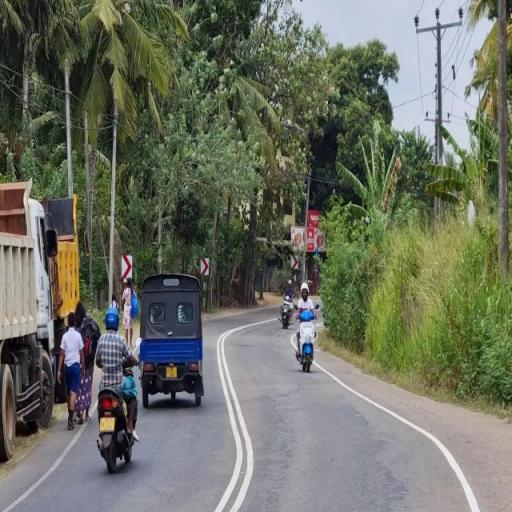double_white_line: (210, 326, 258, 511)
